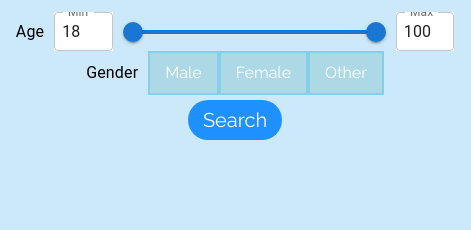
Scenario: Search page › can search for profiles
Replace the text in the number field with test id "minField" with "23". click: [83, 32]
box: [54, 12, 113, 51]
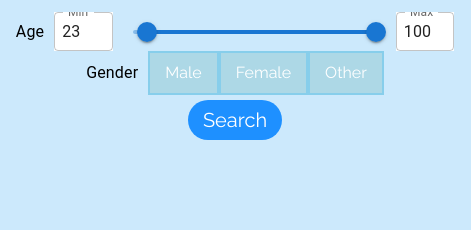
Replace the text in the number field with test id "maxField" with "84". click: [425, 32]
box: [396, 12, 454, 51]
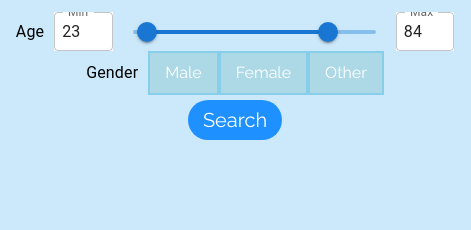
Click the text with test id "multipleRectangleSelector-Female". click: [263, 73]
box: [219, 51, 308, 95]
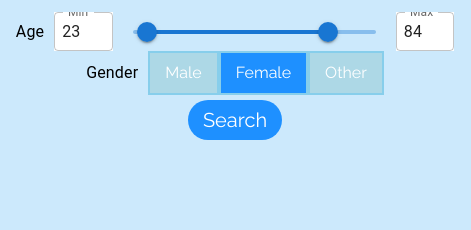
Click the text with test id "multipleRectangleSelector-Other". click: [346, 73]
box: [308, 51, 384, 95]
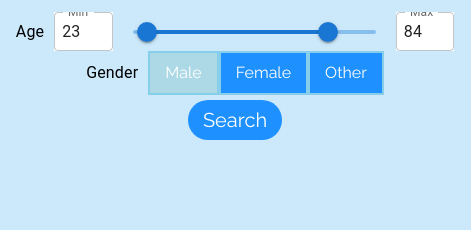
Click the button with test id "searchProfiles". click: [235, 120]
box: [188, 100, 282, 140]
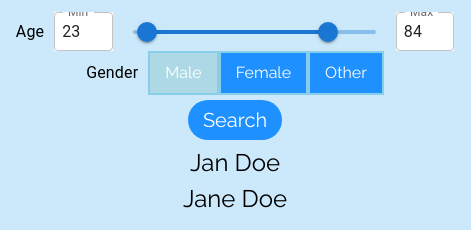
Result: the link "Jan Doe" is shown at [190, 148, 280, 177]
Result: the link "Jane Doe" is shown at [183, 184, 287, 213]
